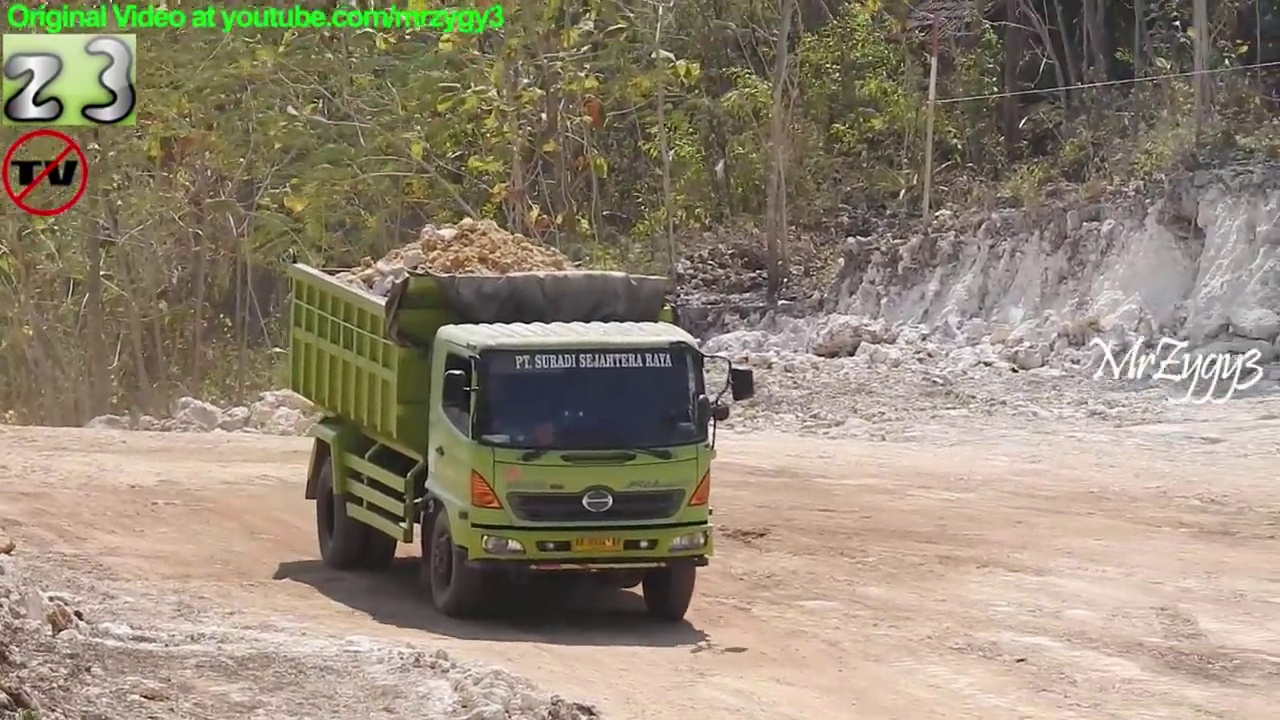truck: (277, 241, 760, 627)
